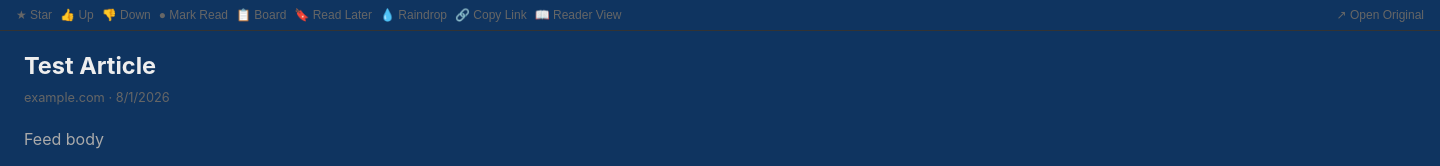
Test case: ReadingPane reader view › switches to extracted content when Reader View is toggled
The width and height of the screenshot is (1440, 166).
Click the button "📖 Reader View" at (578, 15), box left=535, top=8, right=622, bottom=22
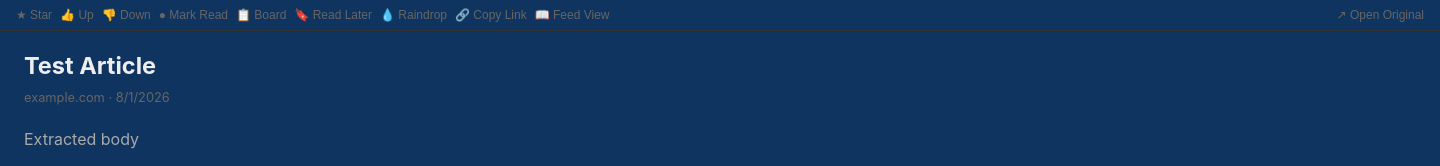
Expected: the text "Extracted body" is shown, left=24, top=129, right=139, bottom=149
